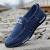shoe: (4, 3, 47, 48)
